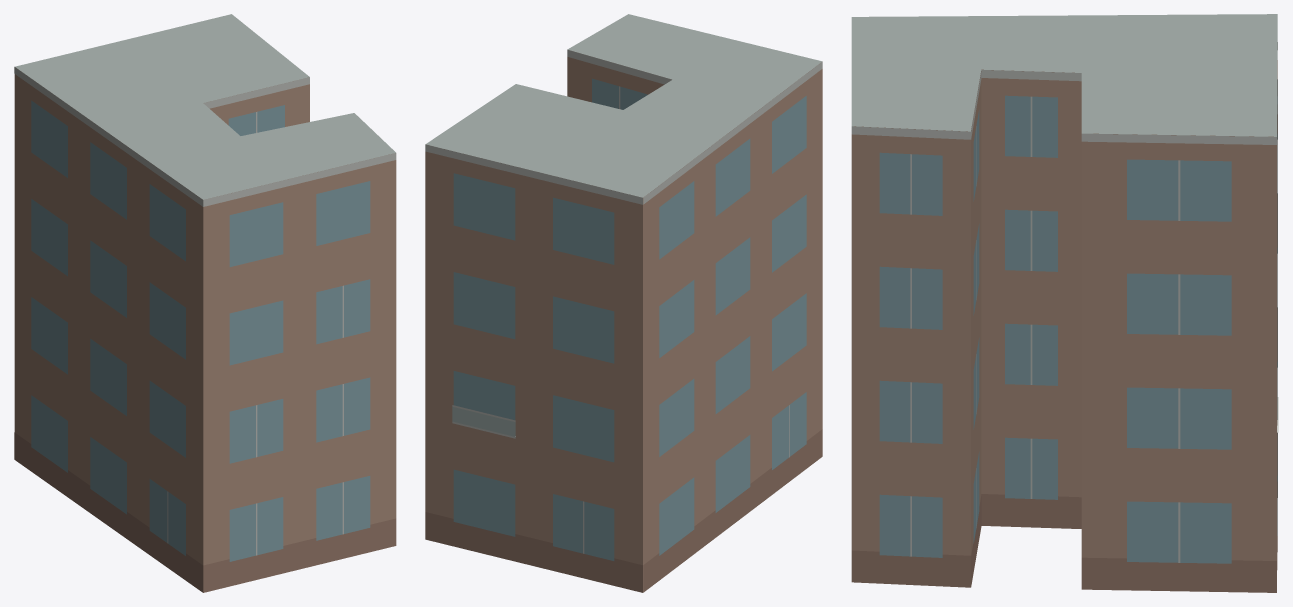
File: survey-upis-32471751.glb
The picture shows the model from 3 angles, left to right: view 1: azimuth 30°, elevation 25°; view 2: azimuth 150°, elevation 25°; view 3: azimuth 270°, elevation 25°; orthographic projection. The views are drawn at different scales.
Parts seen in each view (by area): view 1: survey-upis-32471751.tmp; view 2: survey-upis-32471751.tmp; view 3: survey-upis-32471751.tmp.
Part boxes in pixels (box(x1,y1,x2,y2)): survey-upis-32471751.tmp: box(14, 14, 396, 592); survey-upis-32471751.tmp: box(425, 14, 822, 592); survey-upis-32471751.tmp: box(851, 14, 1278, 592).
Bounding box in the file's own units: 7.82 × 13.52 × 11.49.
